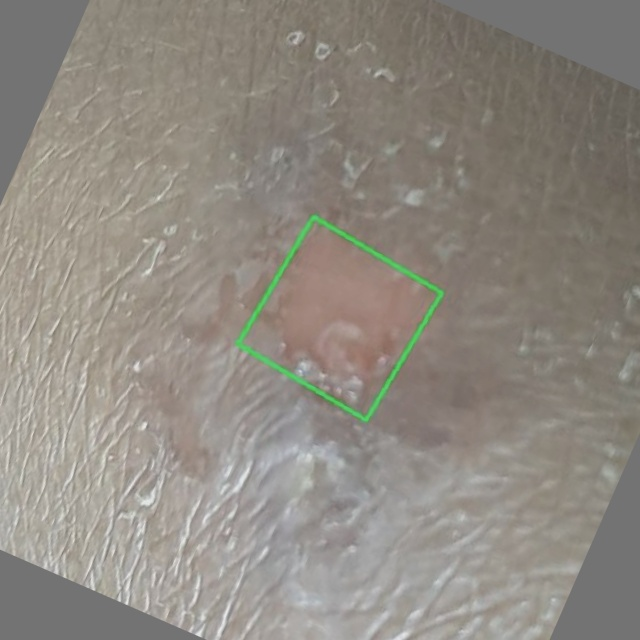Eczema: (238, 216, 442, 419)
